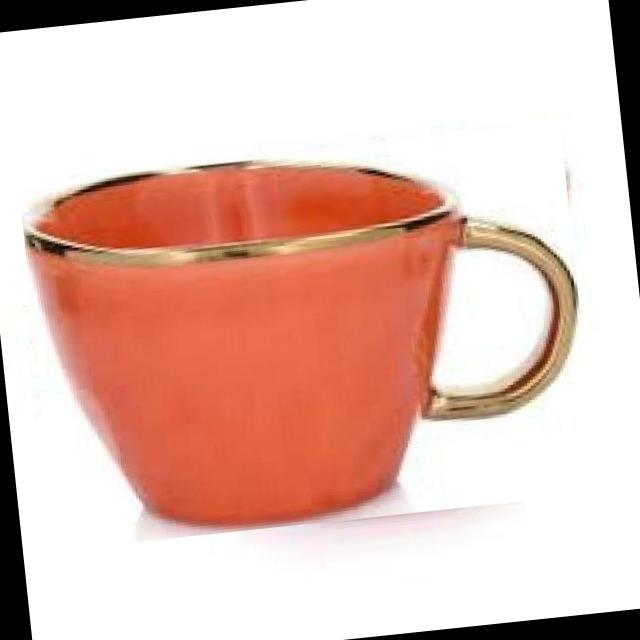Coffee Mug: (14, 119, 596, 539)
